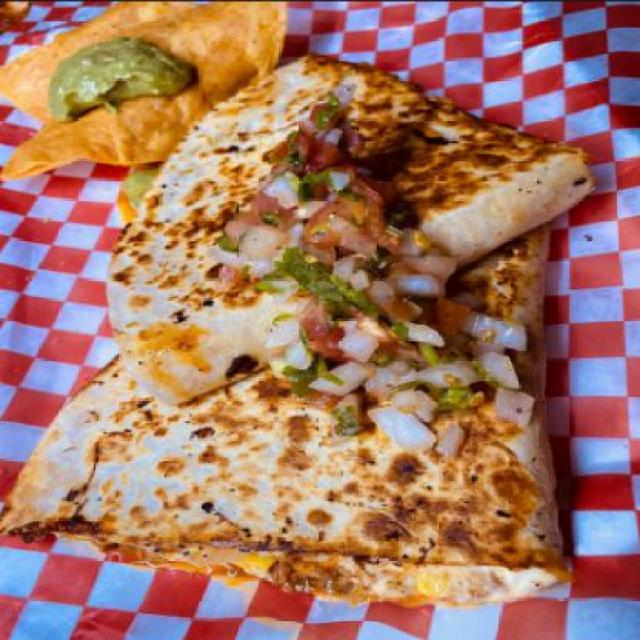chicken quesadilla: (2, 47, 600, 610)
guacamole: (33, 30, 205, 128)
